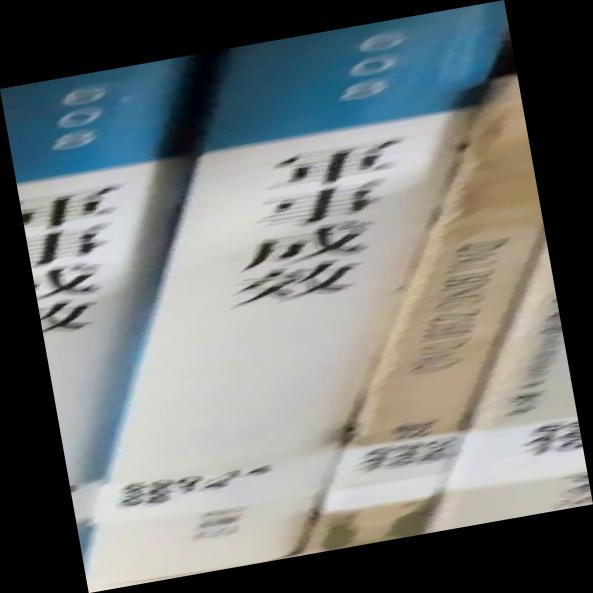book: (1, 1, 592, 593)
